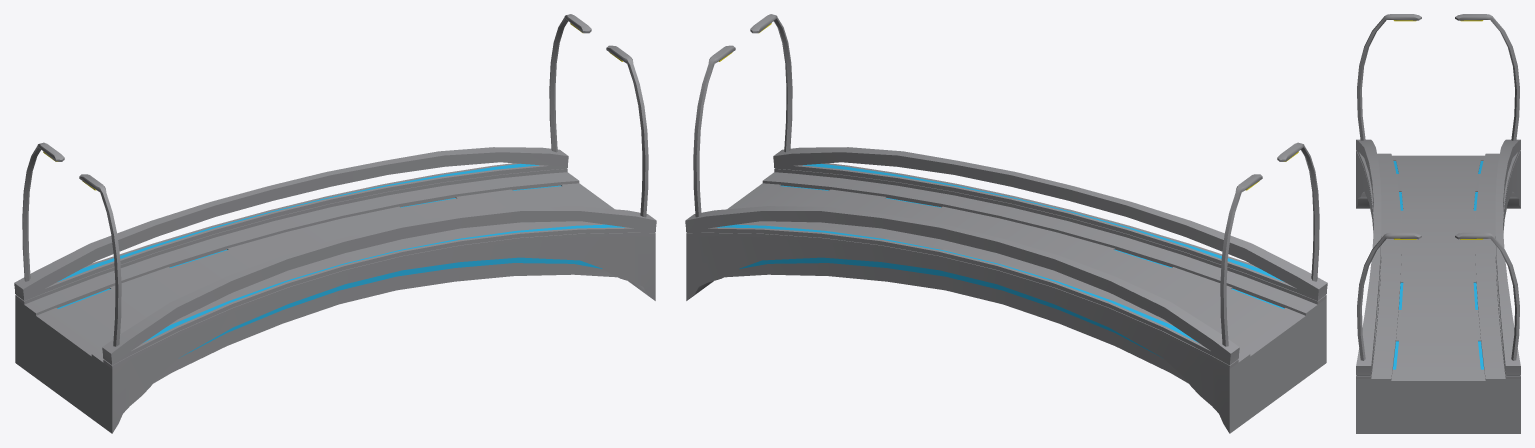
Rendered from SM_Bridge_01.fbx.
The picture shows the model from 3 angles, left to right: view 1: azimuth 30°, elevation 25°; view 2: azimuth 150°, elevation 25°; view 3: azimuth 270°, elevation 25°; orthographic projection. The views are drawn at different scales.
Visible parts, largest first — view 1: SM_Bridge_01; view 2: SM_Bridge_01; view 3: SM_Bridge_01.
Part boxes in pixels (left/top/right/bottom): SM_Bridge_01: left=14, top=14, right=656, bottom=433; SM_Bridge_01: left=685, top=14, right=1327, bottom=433; SM_Bridge_01: left=1356, top=14, right=1520, bottom=433.
Bounding box in the file's own units: 9057 × 3670 × 2787.
